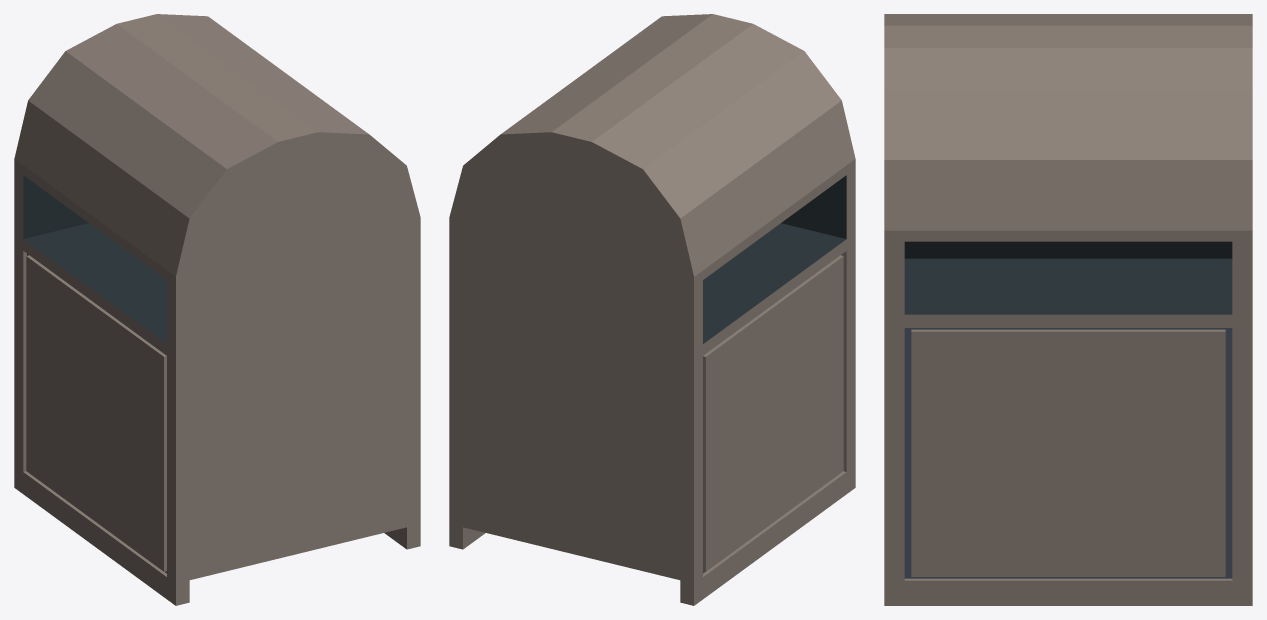
The model's file is 3D_trash.fbx.
The picture shows the model from 3 angles, left to right: view 1: azimuth 30°, elevation 25°; view 2: azimuth 150°, elevation 25°; view 3: azimuth 270°, elevation 25°; orthographic projection. The views are drawn at different scales.
Parts seen in each view (by area): view 1: Trash; view 2: Trash; view 3: Trash.
Part boxes in pixels (bbox=[...]): Trash: bbox=[14, 14, 420, 605]; Trash: bbox=[449, 14, 855, 605]; Trash: bbox=[884, 14, 1252, 605].
Bounding box in the file's own units: 0.7 × 1.2 × 0.8.
